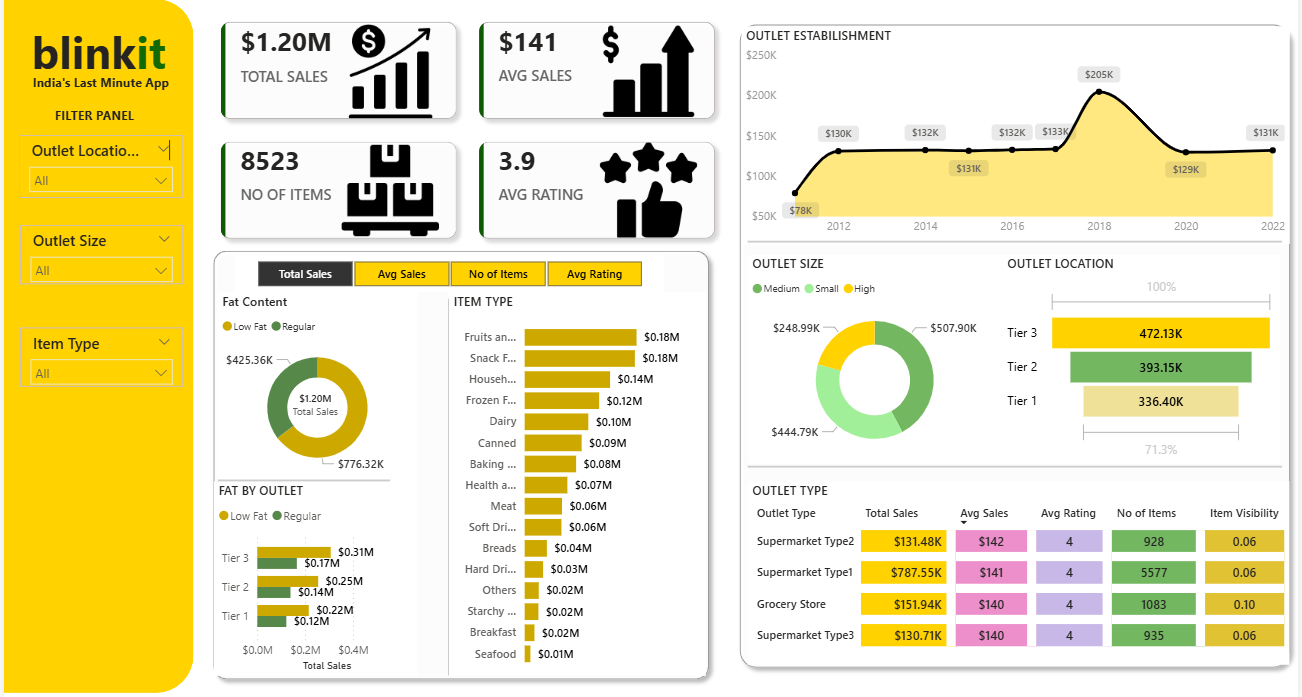

Layout of this report page (visuals, bound fields, positions):
{"tool":"powerbi","page":{"name":"Page 1","canvas":[1400,800],"ordinal":0},"visuals":[{"type":"shape","box":[0,41.6,205.1,750.7],"z":0},{"type":"textbox","box":[15.6,60.7,172.7,74.7],"z":1000},{"type":"textbox","box":[15.6,118.2,177.3,34.2],"z":2000},{"type":"cardVisual","fields":{"Data":["BlinkIT Grocery Data.Total Sales","BlinkIT Grocery Data.Average Sales","BlinkIT Grocery Data.Number of Items","BlinkIT Grocery Data.Average Rating"]},"box":[217.2,49.6,569.7,269.4],"z":3000},{"type":"shape","box":[217.2,305.6,553.6,481.2],"z":4000},{"type":"donutChart","title":"Fat Content","fields":{"Y":["BlinkIT Grocery Data.Total Sales"],"Category":["BlinkIT Grocery Data.Item Fat Content"]},"box":[230.6,359.3,215.8,203.8],"z":5000},{"type":"slicer","fields":{"Values":["Metrics.Metrics"]},"box":[248,319,465.1,40.2],"z":6000},{"type":"cardVisual","fields":{"Data":["BlinkIT Grocery Data.Total Sales"]},"box":[268.1,442.4,138.1,77.7],"z":7000},{"type":"clusteredBarChart","title":"FAT BY OUTLET","fields":{"Y":["BlinkIT Grocery Data.Total Sales"],"Category":["BlinkIT Grocery Data.Outlet Location Type"],"Series":["BlinkIT Grocery Data.Item Fat Content"]},"box":[226.5,563,219.8,210.5],"z":8000},{"type":"shape","box":[230.6,534.9,186.3,55],"z":9000},{"type":"shape","box":[387.4,366,186.3,407.5],"z":10000},{"type":"barChart","title":"ITEM TYPE","fields":{"Y":["BlinkIT Grocery Data.Total Sales"],"Category":["BlinkIT Grocery Data.Item Type"]},"box":[481.2,359.3,277.5,414.2],"z":11000},{"type":"shape","box":[786.9,60.3,612.6,713.1],"z":12000},{"type":"lineChart","title":"OUTLET ESTABILISHMENT","fields":{"Category":["BlinkIT Grocery Data.Outlet Establishment Year"],"Y":["BlinkIT Grocery Data.Total Sales"]},"box":[797.6,71,592.5,235],"z":13000},{"type":"shape","box":[804.3,277.5,577.8,55],"z":14000},{"type":"donutChart","title":"OUTLET SIZE","fields":{"Y":["BlinkIT Grocery Data.Total Sales"],"Category":["BlinkIT Grocery Data.Outlet Size"]},"box":[804.3,319,274.8,225.2],"z":15000},{"type":"funnel","title":"OUTLET LOCATION","fields":{"Category":["BlinkIT Grocery Data.Outlet Location Type"],"Y":["Sum(BlinkIT Grocery Data.Sales)"]},"box":[1079.1,319,298.9,225.2],"z":16000},{"type":"shape","box":[804.3,520.1,577.8,55],"z":17000},{"type":"pivotTable","title":"OUTLET TYPE","fields":{"Rows":["BlinkIT Grocery Data.Outlet Type"],"Values":["BlinkIT Grocery Data.Total Sales","BlinkIT Grocery Data.Avg Sales","BlinkIT Grocery Data.Avg Rating","BlinkIT Grocery Data.No of Items","Avg(BlinkIT Grocery Data.Item Visibility)"]},"box":[804.3,563,585.8,198.4],"z":18000},{"type":"slicer","fields":{"Values":["BlinkIT Grocery Data.Outlet Location Type"]},"box":[16.1,189,176.9,68.4],"z":19000},{"type":"slicer","fields":{"Values":["BlinkIT Grocery Data.Outlet Size"]},"box":[17.4,286.9,175.6,64.3],"z":19001},{"type":"slicer","fields":{"Values":["BlinkIT Grocery Data.Item Type"]},"box":[17.4,396.8,175.6,64.3],"z":19002},{"type":"textbox","box":[49.6,154.2,104.6,34.9],"z":19003}]}

Visuals, with their boxes on the page's 1400x800 design canvas (x1, y1, x2, y2). These are canvas units, not pixel positions in the 1302x697 screenshot, which may show the page scaled, cropped or inside an application window:
shape: x1=0 y1=42 x2=205 y2=792
textbox: x1=16 y1=61 x2=188 y2=135
textbox: x1=16 y1=118 x2=193 y2=152
cardVisual - BlinkIT Grocery Data.Total Sales x BlinkIT Grocery Data.Average Sales: x1=217 y1=50 x2=787 y2=319
shape: x1=217 y1=306 x2=771 y2=787
"Fat Content" donutChart: x1=231 y1=359 x2=446 y2=563
slicer - Metrics.Metrics: x1=248 y1=319 x2=713 y2=359
cardVisual - BlinkIT Grocery Data.Total Sales: x1=268 y1=442 x2=406 y2=520
"FAT BY OUTLET" clusteredBarChart: x1=226 y1=563 x2=446 y2=774
shape: x1=231 y1=535 x2=417 y2=590
shape: x1=387 y1=366 x2=574 y2=774
"ITEM TYPE" barChart: x1=481 y1=359 x2=759 y2=774
shape: x1=787 y1=60 x2=1400 y2=773
"OUTLET ESTABILISHMENT" lineChart: x1=798 y1=71 x2=1390 y2=306
shape: x1=804 y1=278 x2=1382 y2=332
"OUTLET SIZE" donutChart: x1=804 y1=319 x2=1079 y2=544
"OUTLET LOCATION" funnel: x1=1079 y1=319 x2=1378 y2=544
shape: x1=804 y1=520 x2=1382 y2=575
"OUTLET TYPE" pivotTable: x1=804 y1=563 x2=1390 y2=761
slicer - BlinkIT Grocery Data.Outlet Location Type: x1=16 y1=189 x2=193 y2=257
slicer - BlinkIT Grocery Data.Outlet Size: x1=17 y1=287 x2=193 y2=351
slicer - BlinkIT Grocery Data.Item Type: x1=17 y1=397 x2=193 y2=461
textbox: x1=50 y1=154 x2=154 y2=189
